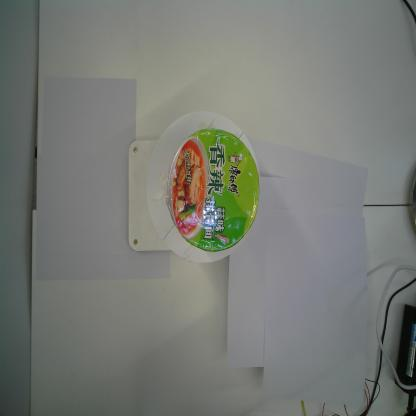Instant Noodles: (166, 127, 260, 253)
